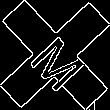M_NE: (21, 21, 89, 89)
